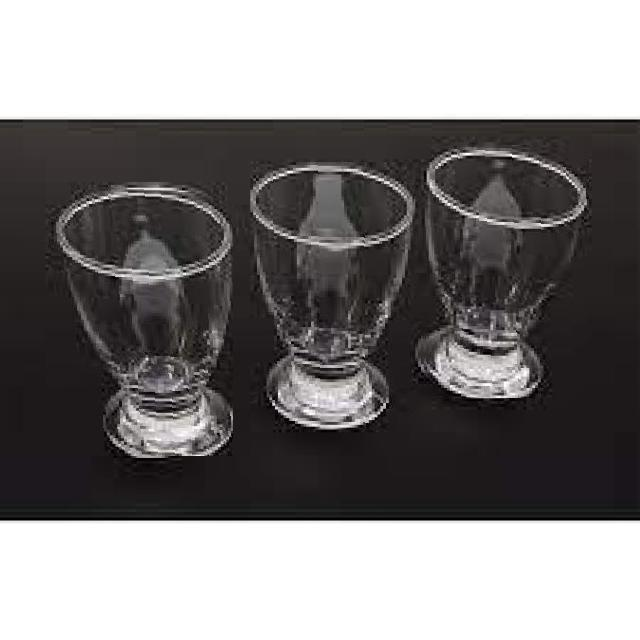Glass: (51, 184, 233, 456), (250, 162, 414, 430), (418, 142, 588, 398)
